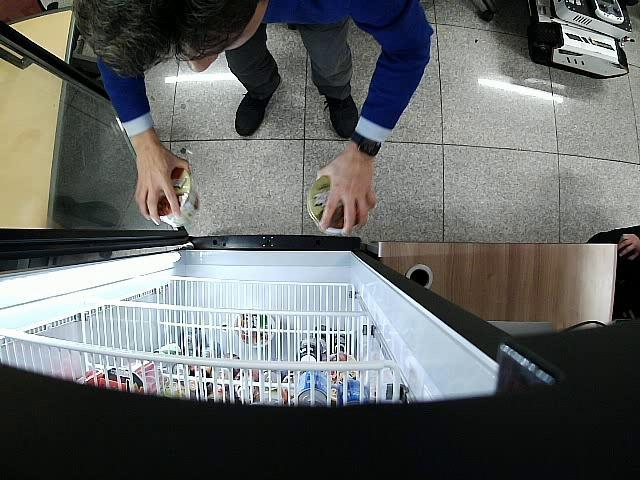03_chapagetti_L: (146, 166, 200, 226), (306, 176, 360, 234)
